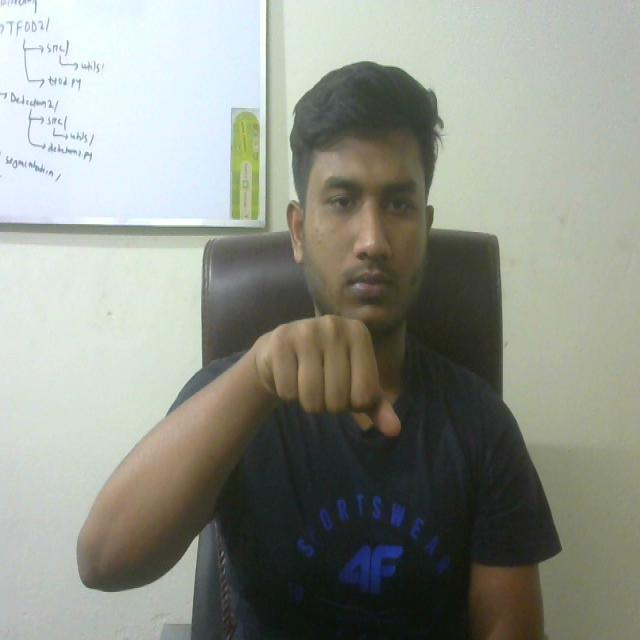Yes: (242, 294, 411, 463)
